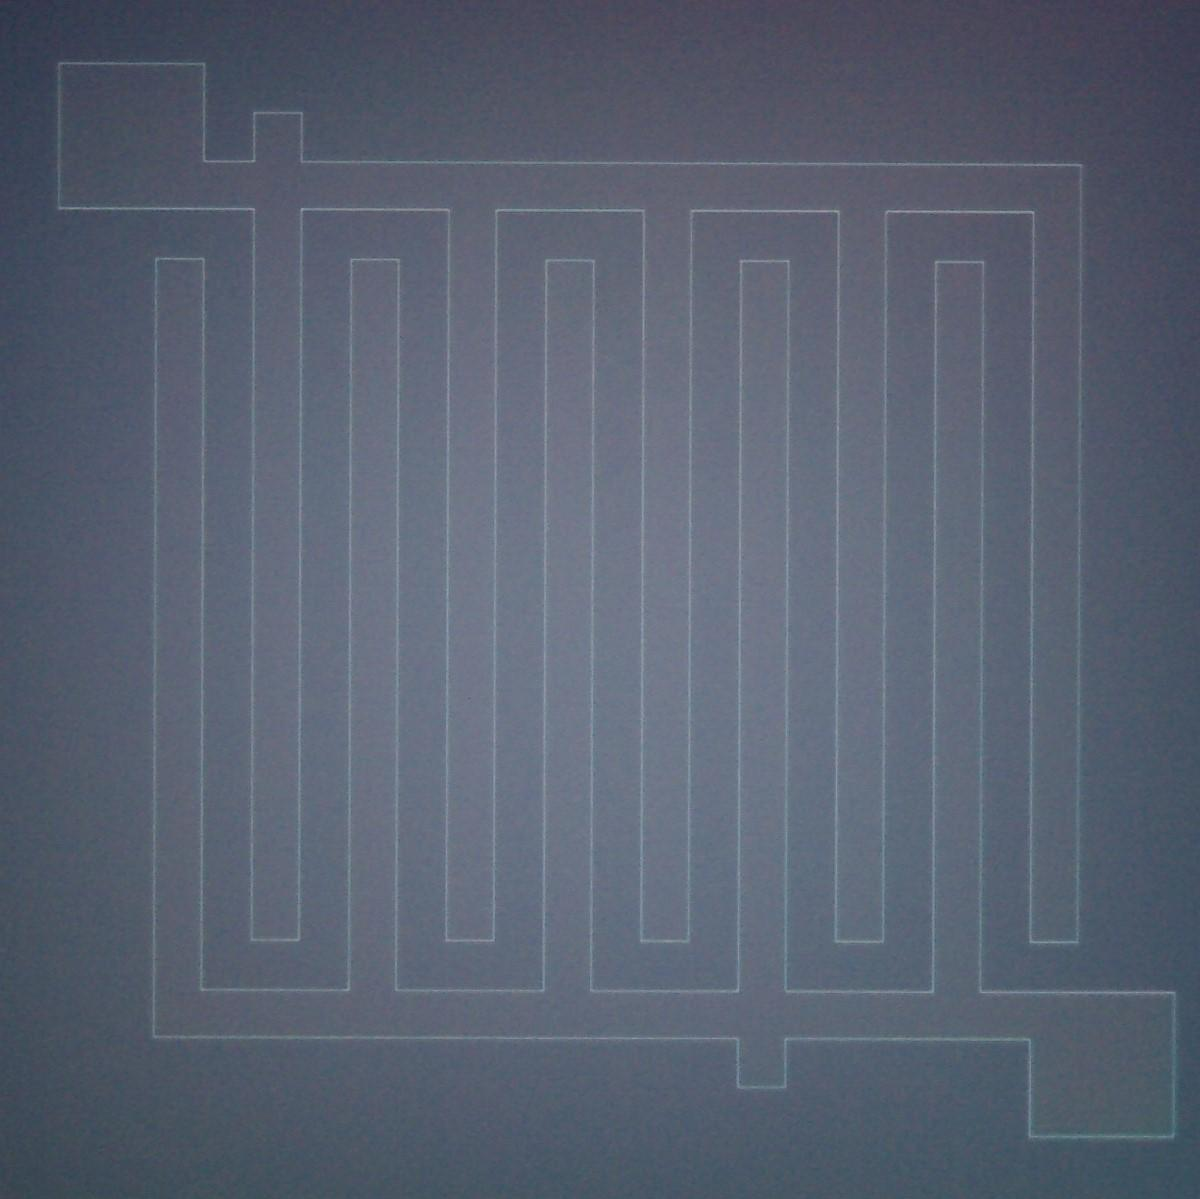project: (711, 1019, 807, 1101), (237, 103, 321, 181)
